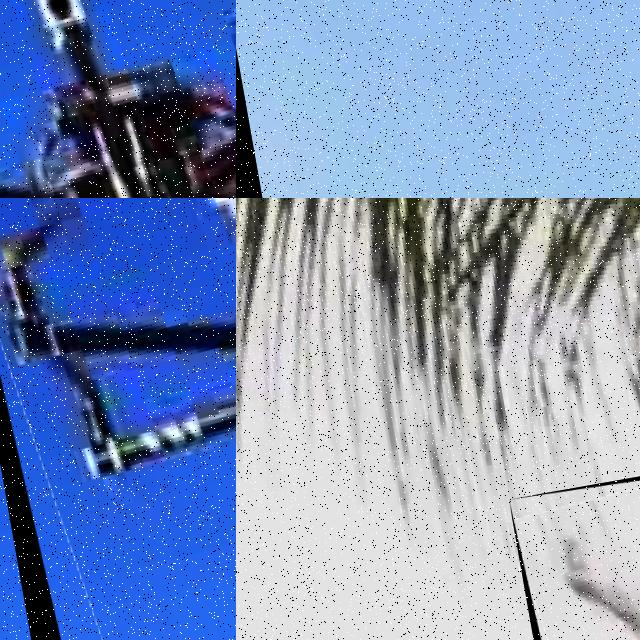drone: (0, 198, 236, 640), (0, 0, 236, 198), (508, 450, 640, 640)
